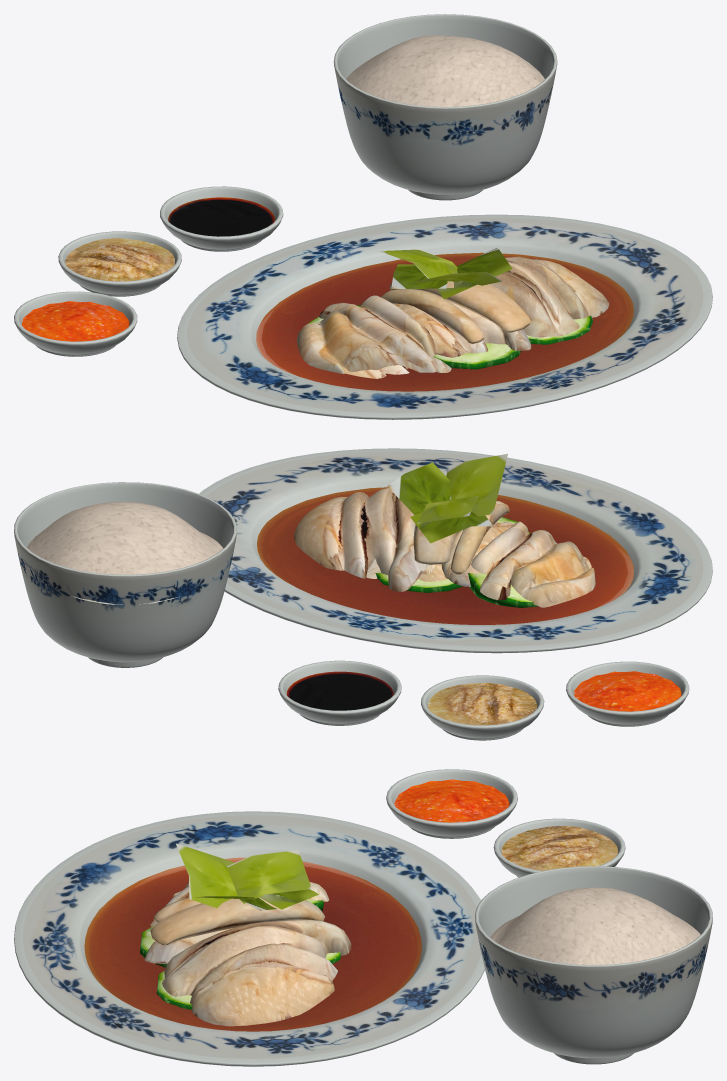
Rendered from 3DModel.obj.
The picture shows the model from 3 angles, top to bottom: view 1: azimuth 30°, elevation 25°; view 2: azimuth 150°, elevation 25°; view 3: azimuth 270°, elevation 25°; orthographic projection. The views are drawn at different scales.
Visible parts, largest first — view 1: Chicken_Rice_Arranged4, Chicken_Rice_Arranged18, Chicken_Rice_Arranged3, Chicken_Rice_Arranged7, Chicken_Rice_Arranged6, Chicken_Rice_Arranged23, Chicken_Rice_Arranged24, Chicken_Rice_Arranged17, Chicken_Rice_Arranged10, Chicken_Rice_Arranged12, Chicken_Rice_Arranged11, Chicken_Rice_Arranged5 (+8 smaller); view 2: Chicken_Rice_Arranged4, Chicken_Rice_Arranged18, Chicken_Rice_Arranged3, Chicken_Rice_Arranged6, Chicken_Rice_Arranged7, Chicken_Rice_Arranged23, Chicken_Rice_Arranged24, Chicken_Rice_Arranged17, Chicken_Rice_Arranged10, Chicken_Rice_Arranged12, Chicken_Rice_Arranged11, Chicken_Rice_Arranged21 (+9 smaller); view 3: Chicken_Rice_Arranged4, Chicken_Rice_Arranged18, Chicken_Rice_Arranged3, Chicken_Rice_Arranged6, Chicken_Rice_Arranged23, Chicken_Rice_Arranged8, Chicken_Rice_Arranged24, Chicken_Rice_Arranged12, Chicken_Rice_Arranged19, Chicken_Rice_Arranged21, Chicken_Rice_Arranged11, Chicken_Rice_Arranged5 (+2 smaller).
Boxes of the visible parts, box(x1,y1,x2,y2) form: Chicken_Rice_Arranged4: box(177, 214, 712, 419); Chicken_Rice_Arranged18: box(333, 14, 557, 200); Chicken_Rice_Arranged3: box(256, 252, 633, 391); Chicken_Rice_Arranged7: box(296, 295, 437, 373); Chicken_Rice_Arranged6: box(491, 256, 609, 337); Chicken_Rice_Arranged23: box(65, 238, 174, 281); Chicken_Rice_Arranged24: box(22, 301, 129, 341); Chicken_Rice_Arranged17: box(168, 197, 274, 236); Chicken_Rice_Arranged10: box(160, 186, 283, 251); Chicken_Rice_Arranged12: box(14, 291, 137, 356); Chicken_Rice_Arranged11: box(58, 231, 181, 296); Chicken_Rice_Arranged5: box(393, 300, 531, 357); Chicken_Rice_Arranged4: box(199, 448, 712, 653); Chicken_Rice_Arranged18: box(14, 482, 236, 667); Chicken_Rice_Arranged3: box(257, 487, 633, 624); Chicken_Rice_Arranged6: box(294, 488, 428, 591); Chicken_Rice_Arranged7: box(471, 521, 595, 607); Chicken_Rice_Arranged23: box(428, 683, 537, 725); Chicken_Rice_Arranged24: box(574, 671, 681, 711); Chicken_Rice_Arranged17: box(286, 671, 393, 710); Chicken_Rice_Arranged10: box(278, 660, 401, 725); Chicken_Rice_Arranged12: box(566, 661, 689, 726); Chicken_Rice_Arranged11: box(421, 675, 544, 740); Chicken_Rice_Arranged21: box(446, 453, 507, 516); Chicken_Rice_Arranged4: box(14, 811, 484, 1066); Chicken_Rice_Arranged18: box(475, 866, 712, 1064); Chicken_Rice_Arranged3: box(84, 857, 421, 1031); Chicken_Rice_Arranged6: box(162, 919, 351, 1026); Chicken_Rice_Arranged23: box(501, 826, 618, 870); Chicken_Rice_Arranged8: box(150, 897, 324, 945); Chicken_Rice_Arranged24: box(394, 779, 509, 822); Chicken_Rice_Arranged12: box(386, 769, 517, 838); Chicken_Rice_Arranged19: box(227, 850, 311, 903); Chicken_Rice_Arranged21: box(176, 843, 237, 908); Chicken_Rice_Arranged11: box(493, 818, 625, 877); Chicken_Rice_Arranged5: box(144, 928, 232, 963).
Size of the model in its own units: 2 by 0.4448 by 1.94.
